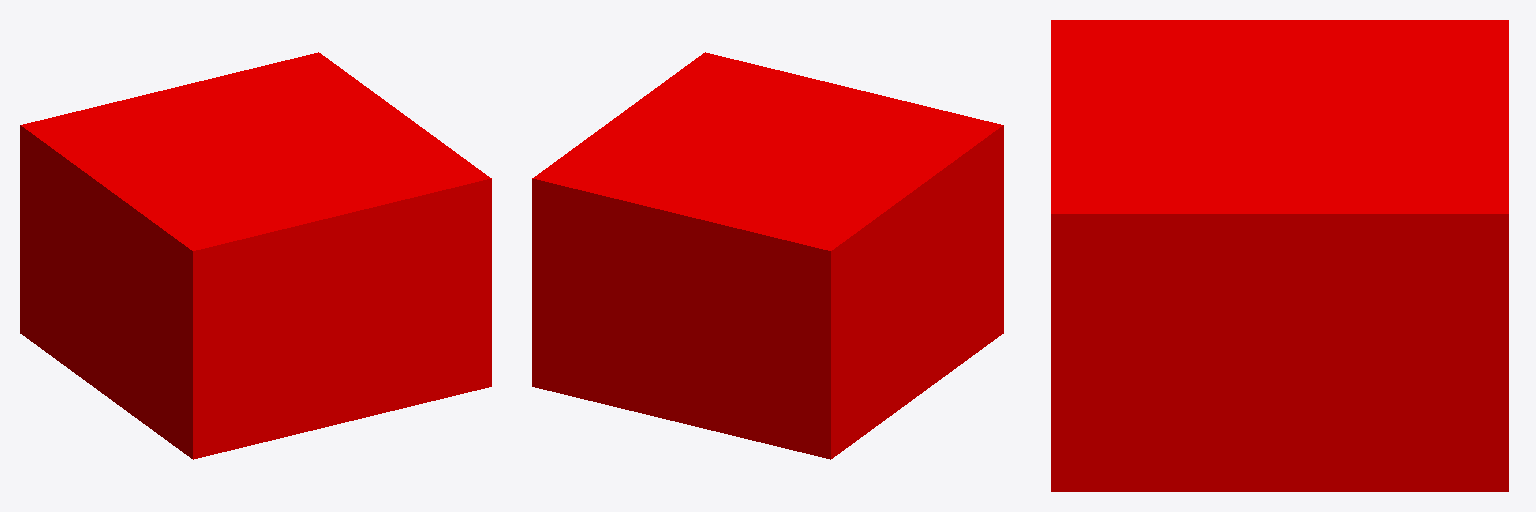
URDF robot description (test_robot):
<!-- 直方体の物体を表示する
https://qiita.com/srs/items/35bbaadd6c4be1e39bb9

正しくURDFファイルを作成できているか確認するために以下のコマンドを実行
    $ check_urdf simple_body1.urdf

以下のように出てくればOK
    robot name is: test_robot
        Successfully Parsed XML
    root Link: base_link has 1 child(ren)
        child(1):  body_link
-->


<robot name="test_robot">
    <link name="base_link"/>

    <joint name="body_joint" type="fixed">
        <parent link="base_link"/>
        <child link="body_link"/>
    </joint>

    <link name="body_link">
        <visual>
            <geometry>
                <box size="0.3 0.3 0.2"/>
            </geometry>
            <origin xyz="0 0 0" rpy="0 0 0"/>
            <material name="red">
                <color rgba="1.0 0.0 0.0 1.0"/>
            </material>
        </visual>
    </link>
</robot>

--- Render facts (derived) ---
3 views of the same robot in one strip: view 1: azimuth 30°, elevation 25°; view 2: azimuth 150°, elevation 25°; view 3: azimuth 270°, elevation 25° (orthographic).
Robot: test_robot — 2 links, 1 joints (1 fixed); root link base_link; default pose: every joint at zero.
Links seen in each view (by area): view 1: body_link; view 2: body_link; view 3: body_link.
Boxes of the visible links, bbox=[...] form: body_link: bbox=[20, 52, 491, 459]; body_link: bbox=[532, 52, 1003, 459]; body_link: bbox=[1051, 20, 1508, 491].
Size in the robot's own frame: 0.3 by 0.3 by 0.2 metres.
Geometry: primitives only (box / cylinder / sphere), no mesh files.
